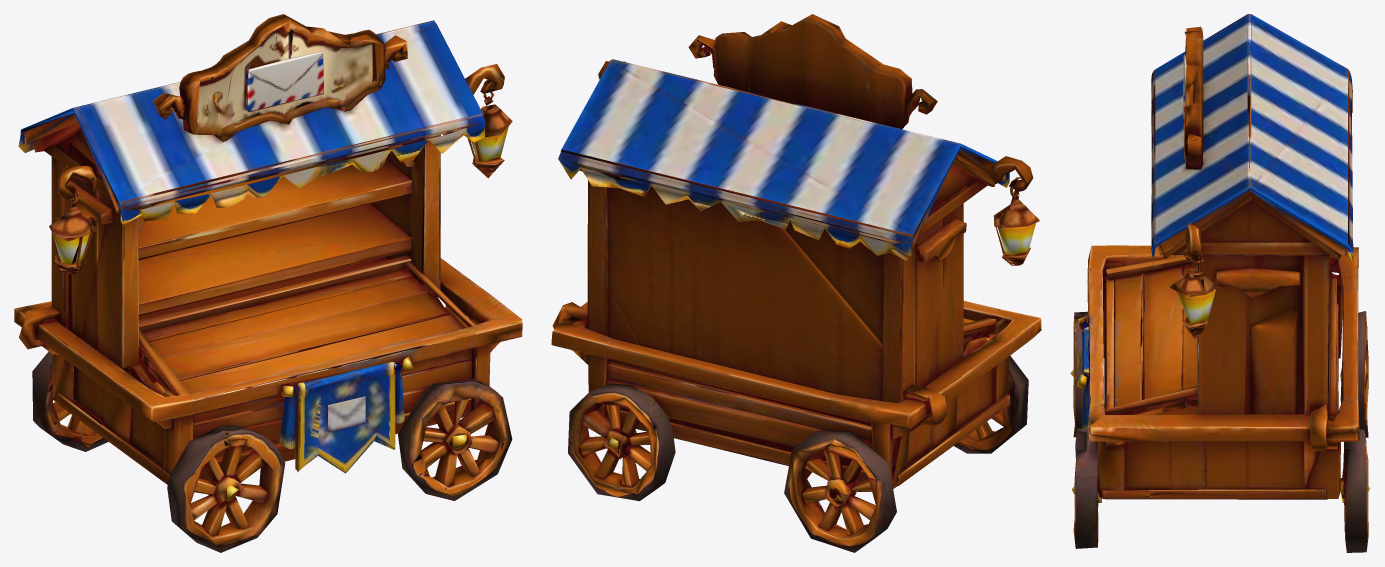
The model's file is lettercart.glb.
3 views of the same model, side by side, from view 1: azimuth 30°, elevation 25°; view 2: azimuth 150°, elevation 25°; view 3: azimuth 270°, elevation 25° (orthographic). The views are drawn at different scales.
Parts seen in each view (by area): view 1: geometry_0; view 2: geometry_0; view 3: geometry_0.
Boxes of the visible parts, x1,y1,x2,y2 form: geometry_0: (14,14,522,552); geometry_0: (551,14,1041,552); geometry_0: (1070,14,1370,552).
Bounding box in the file's own units: 0.9478 × 0.916 × 0.5474.
1 material, 1 textured.
